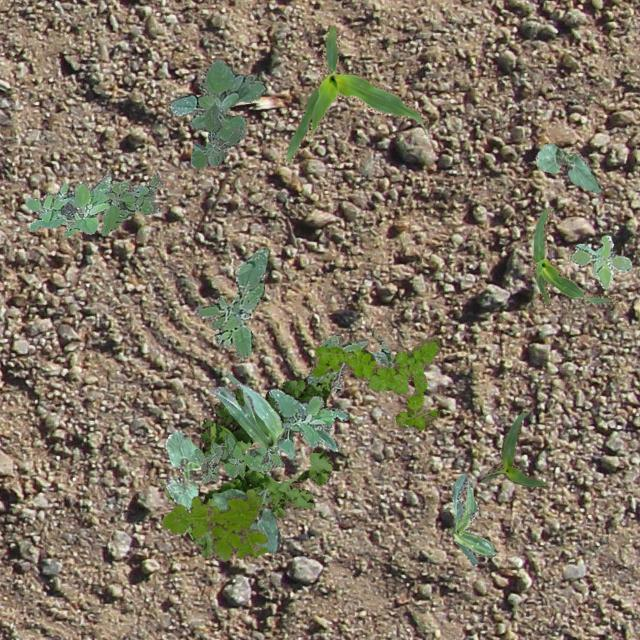crop: (284, 24, 428, 164), (532, 205, 618, 308), (210, 370, 282, 466), (481, 410, 546, 488), (211, 486, 279, 552), (451, 472, 496, 564), (534, 142, 600, 192), (165, 428, 202, 512)
weed: (162, 372, 334, 558), (311, 336, 438, 428), (194, 246, 268, 360), (168, 59, 264, 140), (160, 488, 266, 560), (268, 388, 348, 458), (24, 172, 110, 235), (306, 332, 396, 392), (194, 432, 284, 482), (100, 172, 162, 234), (568, 235, 632, 288), (190, 102, 242, 166)
